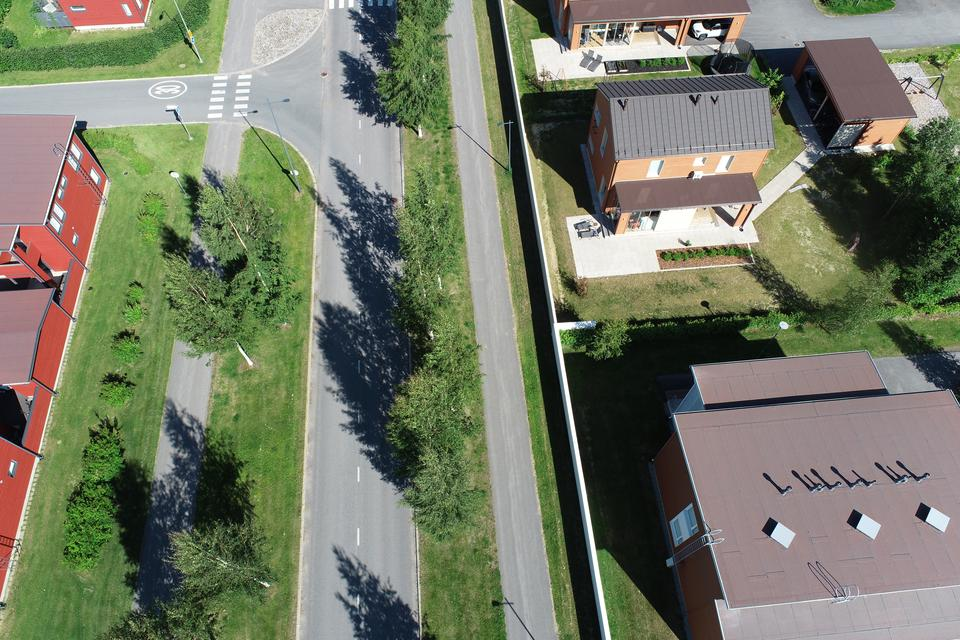intersection: (157, 35, 447, 170)
